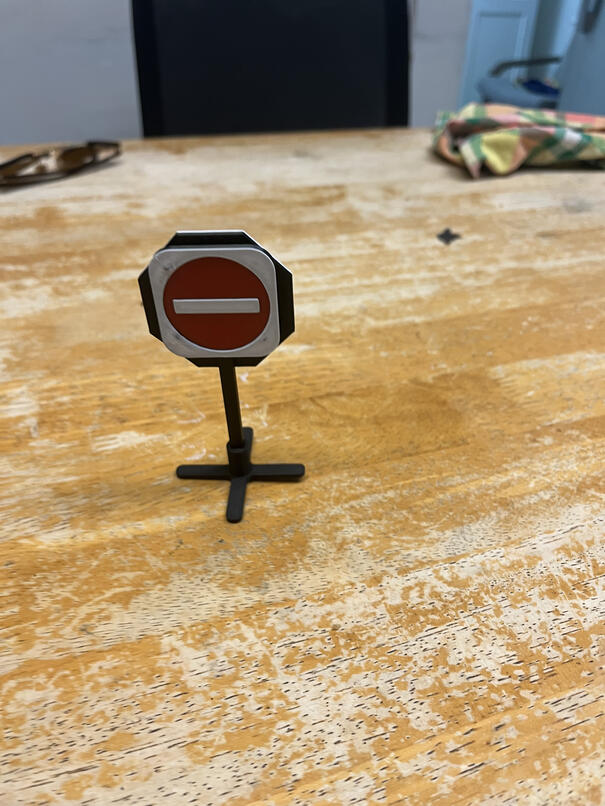sign_noentry: (150, 246, 284, 358)
